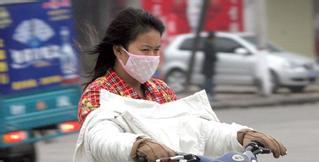OK: (116, 37, 162, 83)
